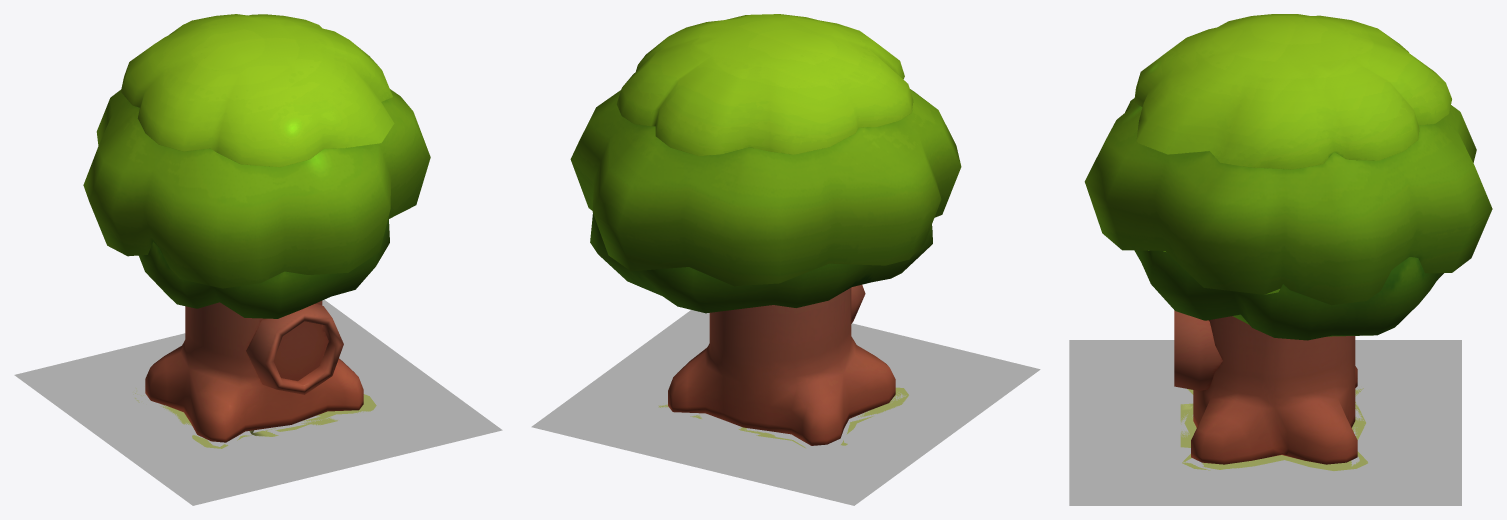
Rendered from Tree.fbx.
3 renders of one model, left to right at view 1: azimuth 30°, elevation 25°; view 2: azimuth 150°, elevation 25°; view 3: azimuth 270°, elevation 25°, orthographic. The views are drawn at different scales.
Visible parts, largest first — view 1: Tree_Leaf, Tree_Grid.001, Tree, Trunk, Tree_GridShadow; view 2: Tree_Leaf, Tree_Grid.001, Tree, Tree_GridShadow; view 3: Tree_Leaf, Tree_Grid.001, Tree, Trunk, Tree_GridShadow.
Part boxes in pixels (x1,y1,x2,y2): Tree_Leaf: (83,14,430,318); Tree_Grid.001: (14,299,502,505); Tree: (145,301,363,442); Trunk: (246,304,343,394); Tree_GridShadow: (133,388,376,448); Tree_Leaf: (570,14,961,313); Tree_Grid.001: (531,310,1040,505); Tree: (668,288,895,445); Tree_GridShadow: (658,387,908,448); Tree_Leaf: (1084,14,1492,340); Tree_Grid.001: (1069,340,1461,505); Tree: (1191,316,1357,464); Trunk: (1174,310,1222,390); Tree_GridShadow: (1180,388,1367,470).
Size of the model in its own units: 311 by 327 by 323.
